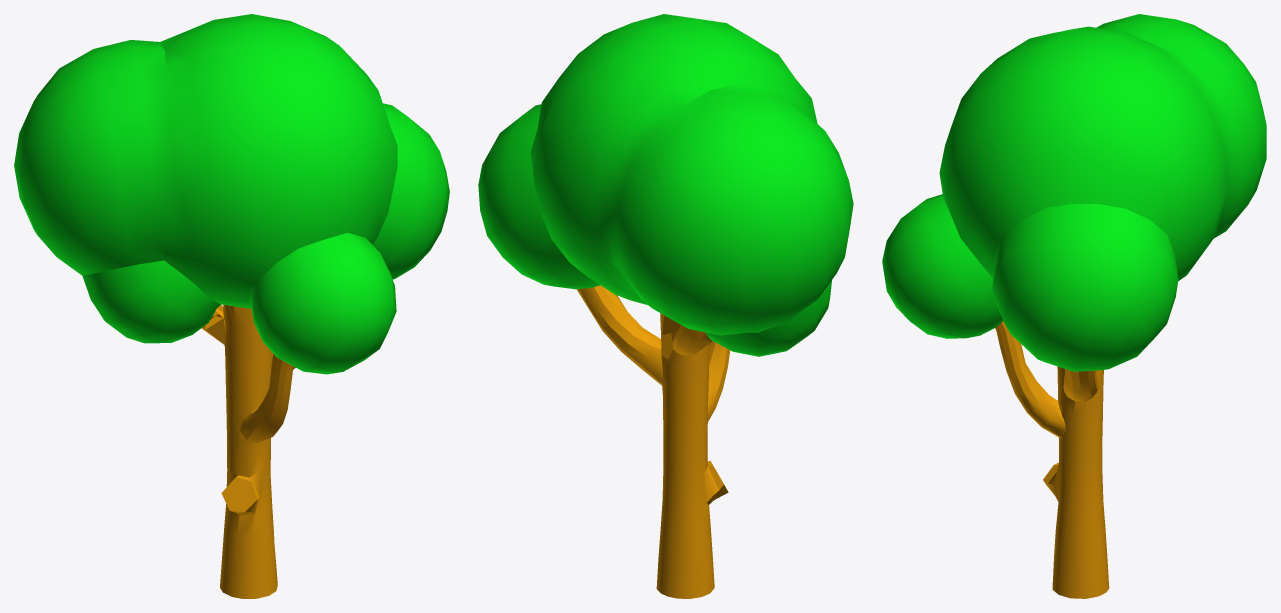
File: Arbol04.fbx
3 renders of one model, left to right at view 1: azimuth 30°, elevation 25°; view 2: azimuth 150°, elevation 25°; view 3: azimuth 270°, elevation 25°, orthographic.
Visible parts, largest first — view 1: Atnol04; view 2: Atnol04; view 3: Atnol04.
Part boxes in pixels (x1,y1,x2,y2): Atnol04: [14, 14, 449, 598]; Atnol04: [478, 14, 853, 598]; Atnol04: [882, 14, 1266, 598].
Bounding box in the file's own units: 493 × 701 × 446.
